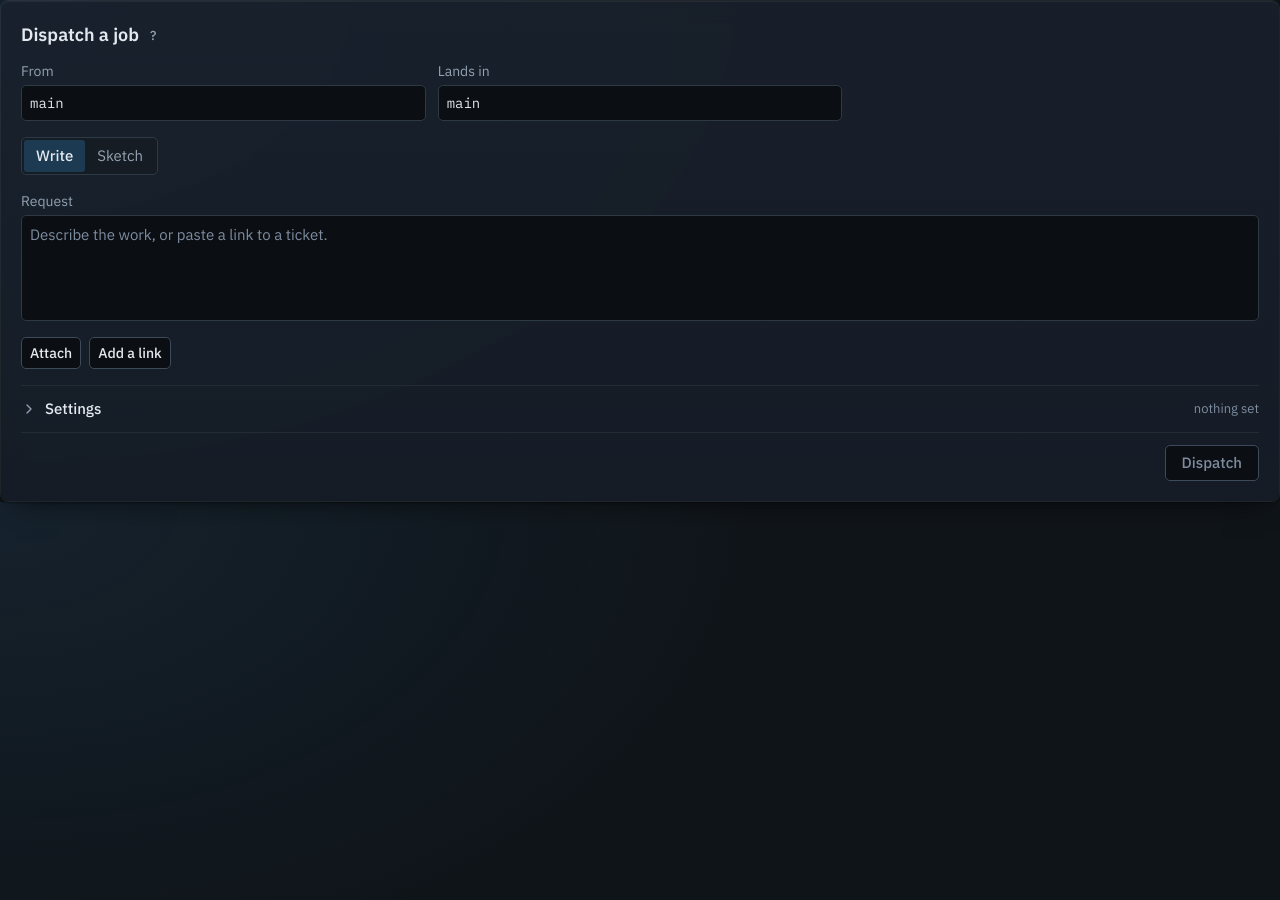
Scenario: nothing offers a second way to make a Job
Type "The board flickers every time an event lands." into the text box labelled "Request".
click(640, 268); type("The board flickers every time an event lands.")  # box [21, 215, 1259, 321]
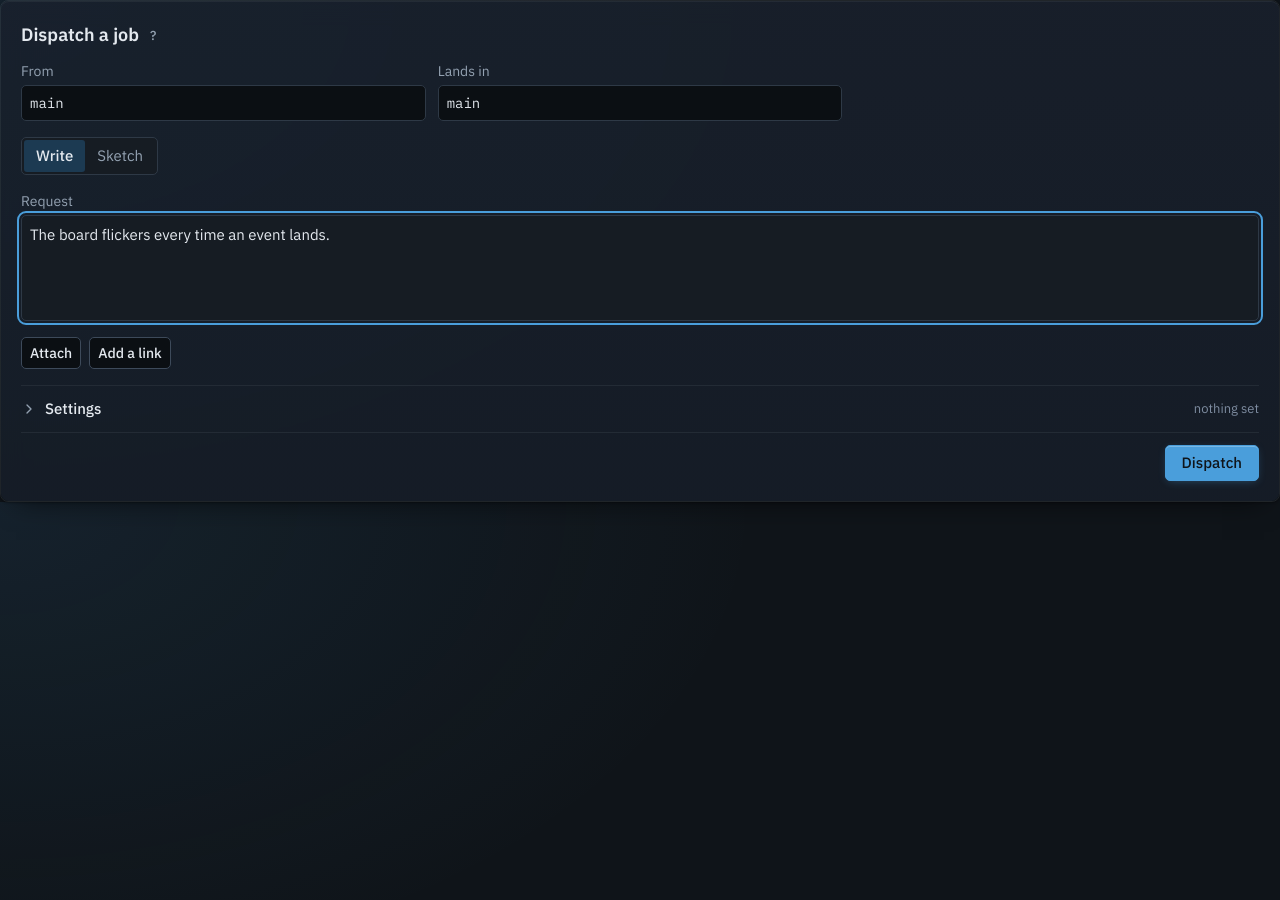
Click the button "Dispatch".
click(1212, 463)  # box [1165, 445, 1259, 481]
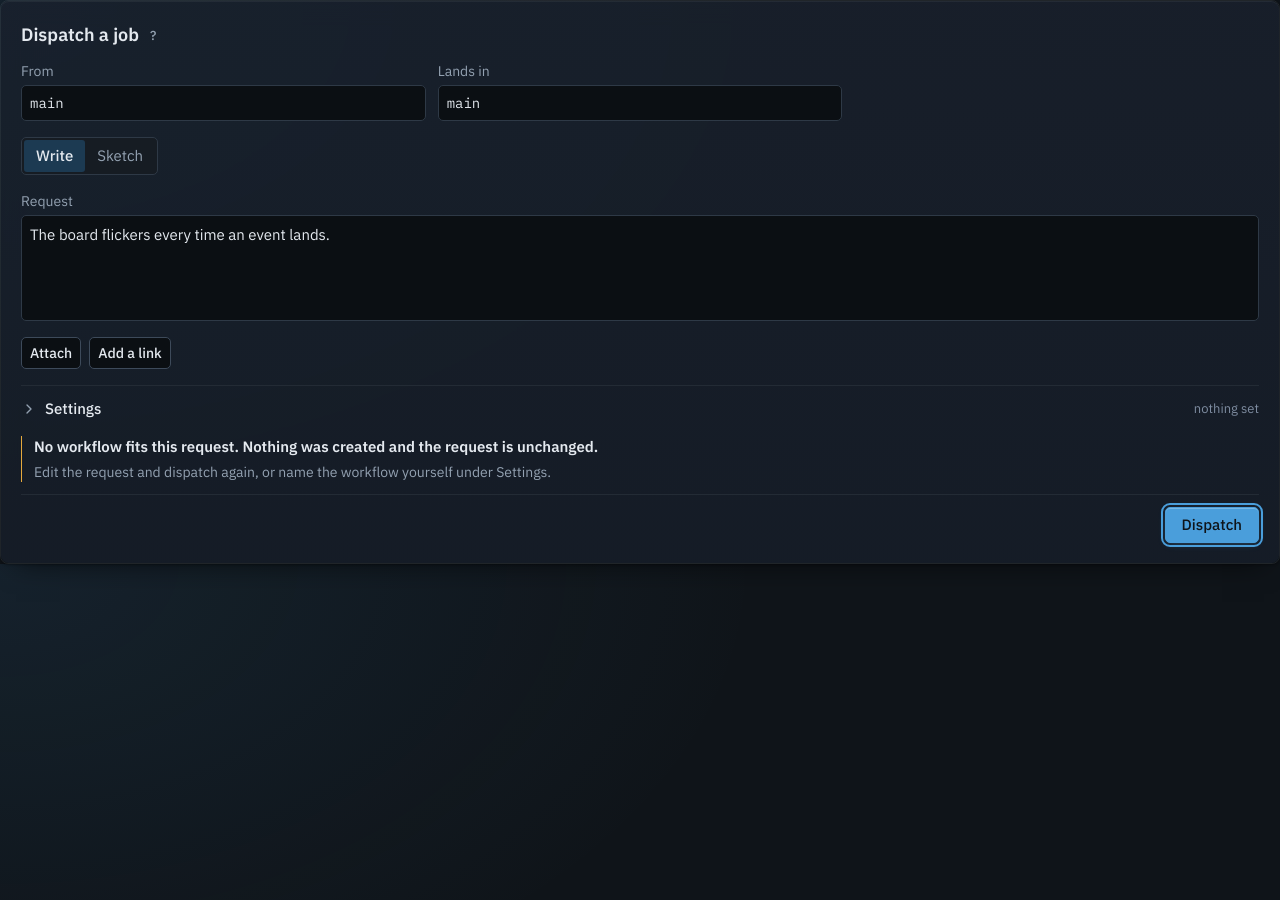
Expected: the text "No workflow fits this request" is shown, [34, 437, 242, 456]
